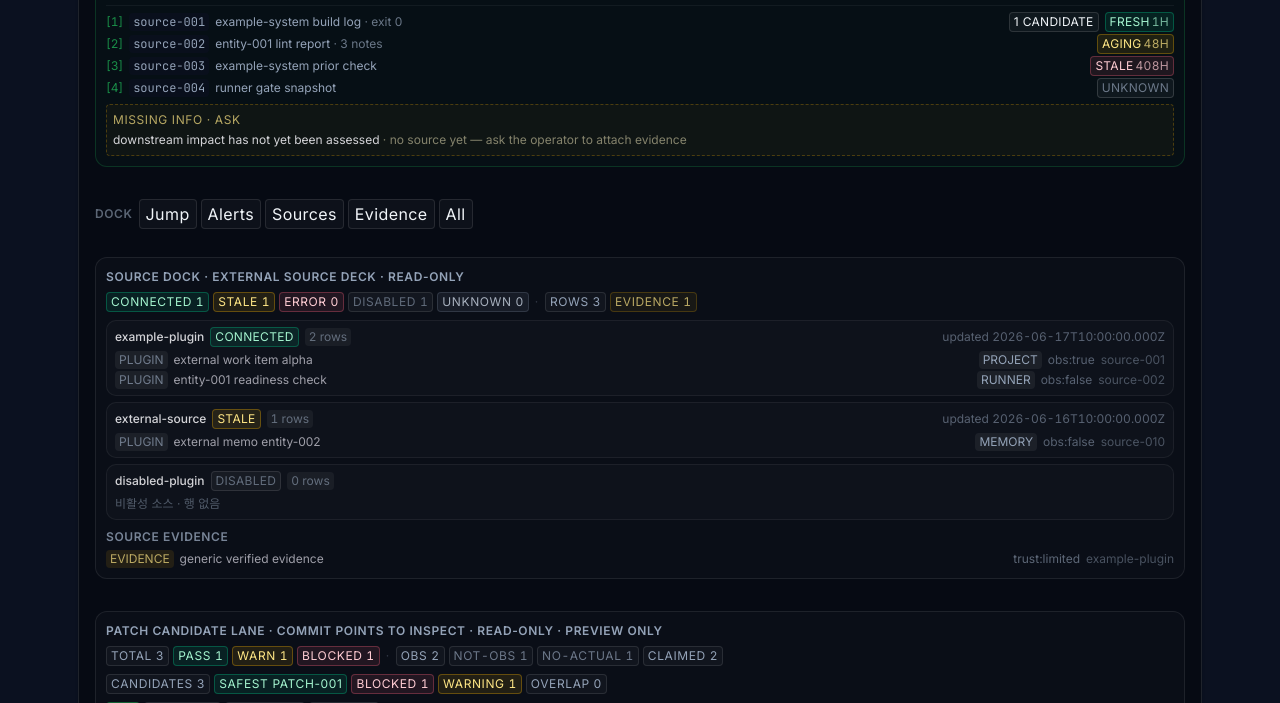
Test case: Batch 15 LINE E — source detail drawer (zero-button, view-only) › the role=button close affordance closes on click and on Enter
The image size is (1280, 703).
(page scrolled)
Click the button with test id "plugin-row-example-plugin-0".
click(141, 360)  # box [115,351,1165,369]
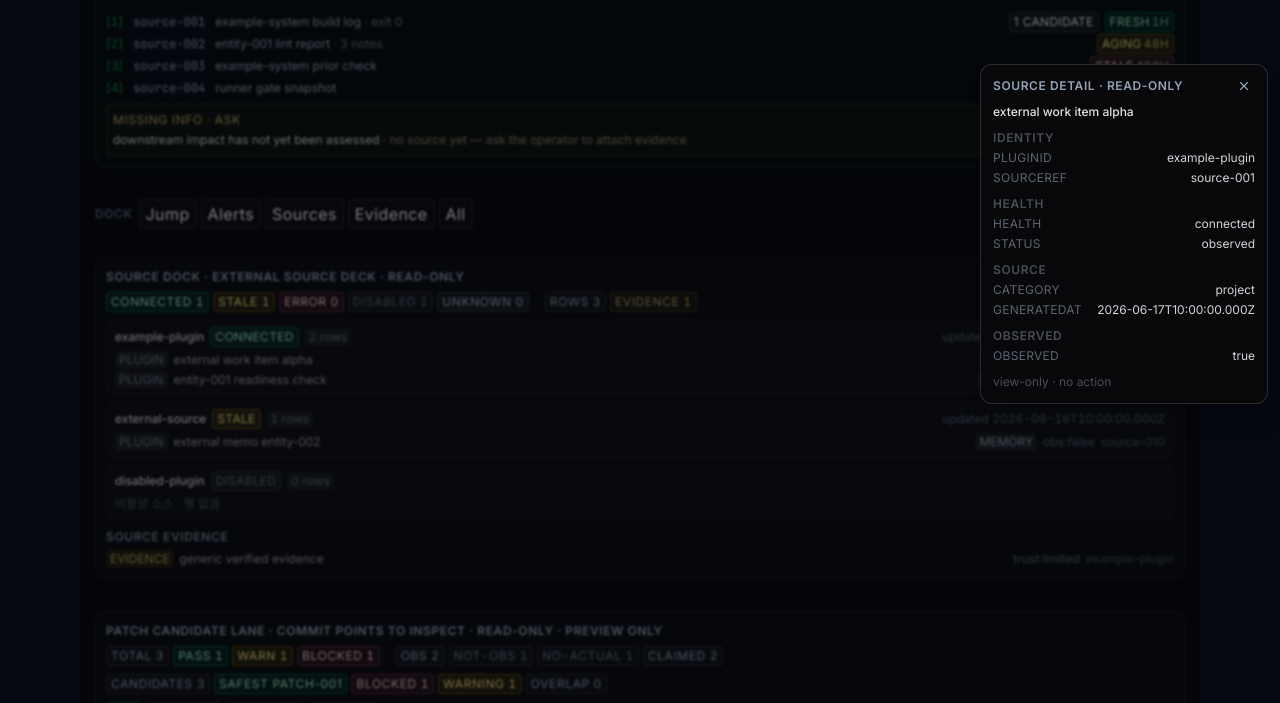
Click the button with test id "source-detail-close".
click(1244, 86)  # box [1237,79,1251,93]
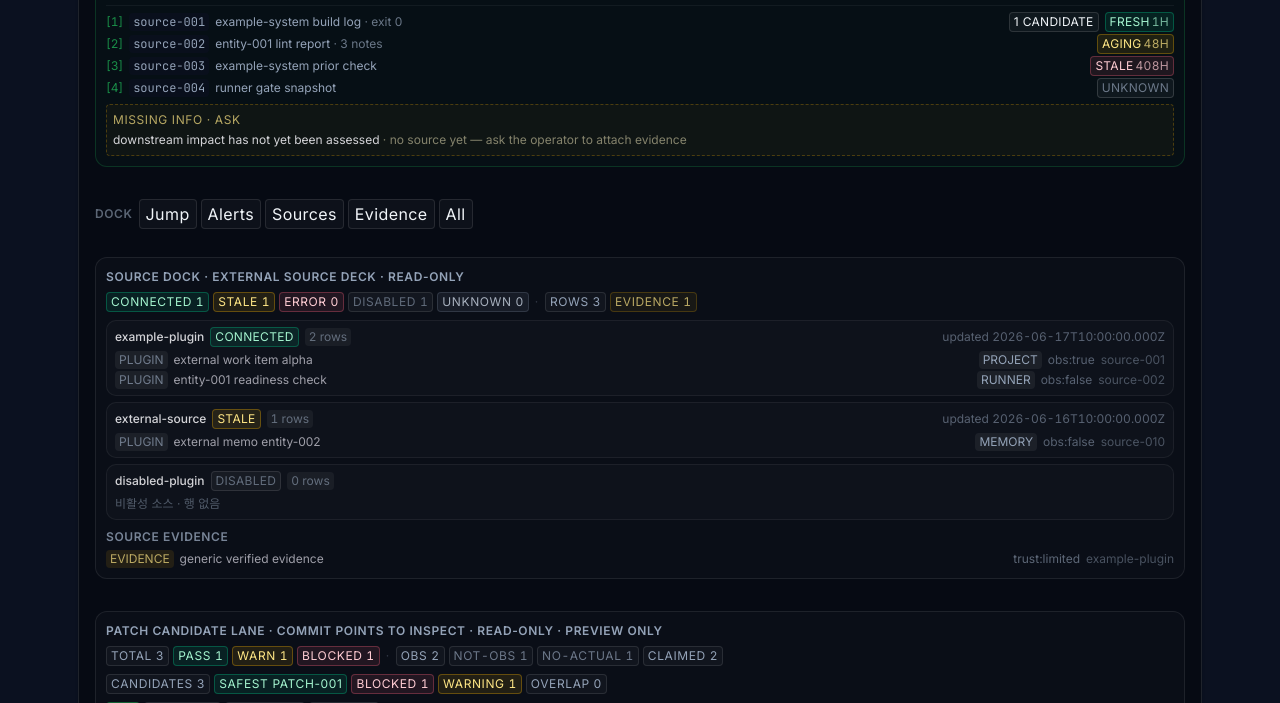
Expected: the dialog with test id "source-detail-drawer" is gone
Note: reopen + Enter on a focused row
Press Enter in the button with test id "plugin-row-example-plugin-1", box [115,371,1165,389]
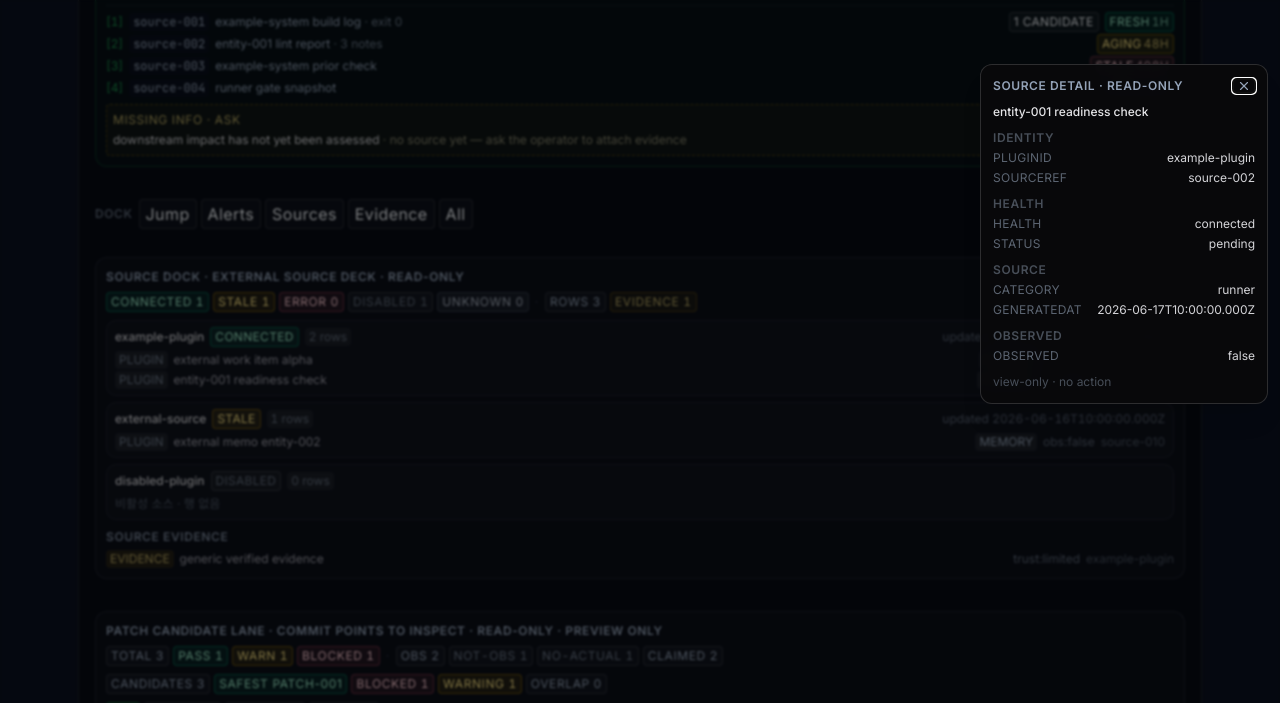
Expected: the dialog with test id "source-detail-drawer" is shown, [980,64,1268,404]
